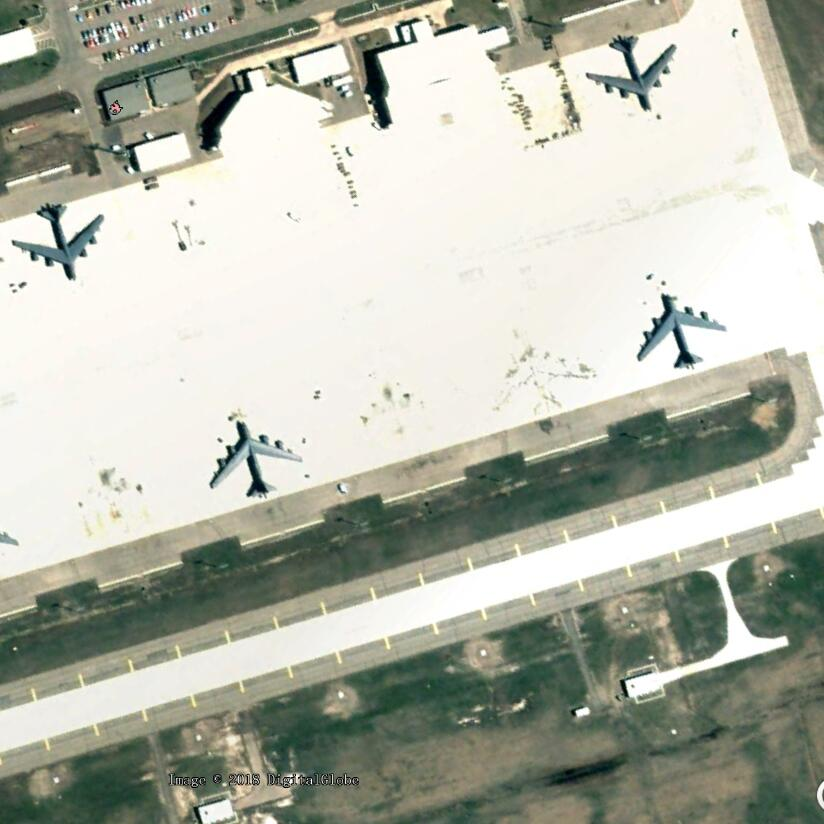A8: (207, 419, 306, 506), (585, 34, 678, 122), (633, 290, 728, 376), (13, 203, 109, 284)
